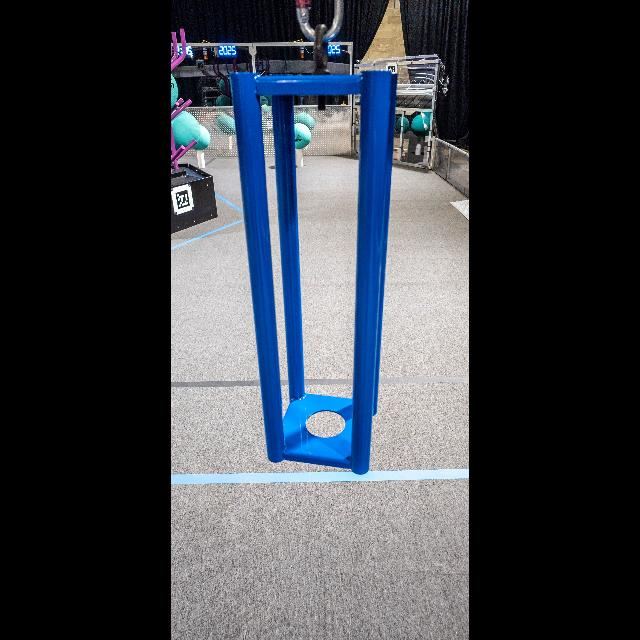ALGAE: (172, 110, 200, 150), (294, 124, 312, 148), (192, 126, 210, 150), (172, 72, 178, 110)
CORAL: (296, 149, 304, 167), (197, 150, 205, 168)
